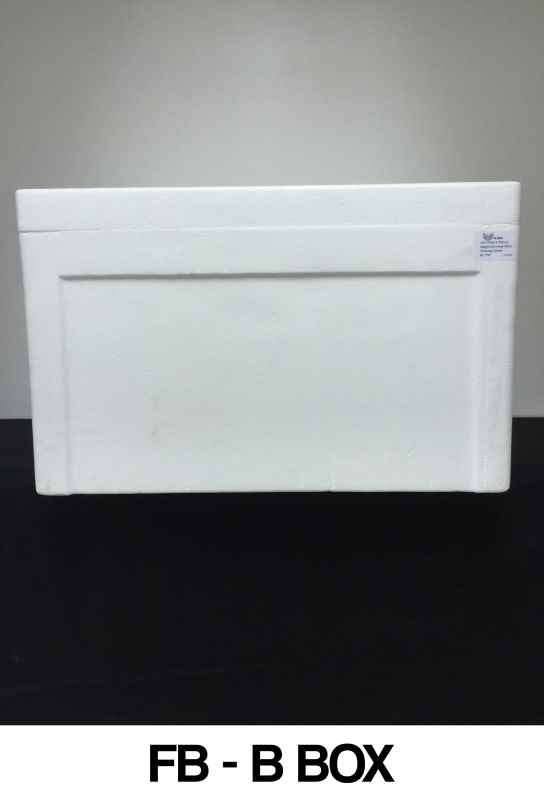Foam Box: (10, 173, 527, 500)
